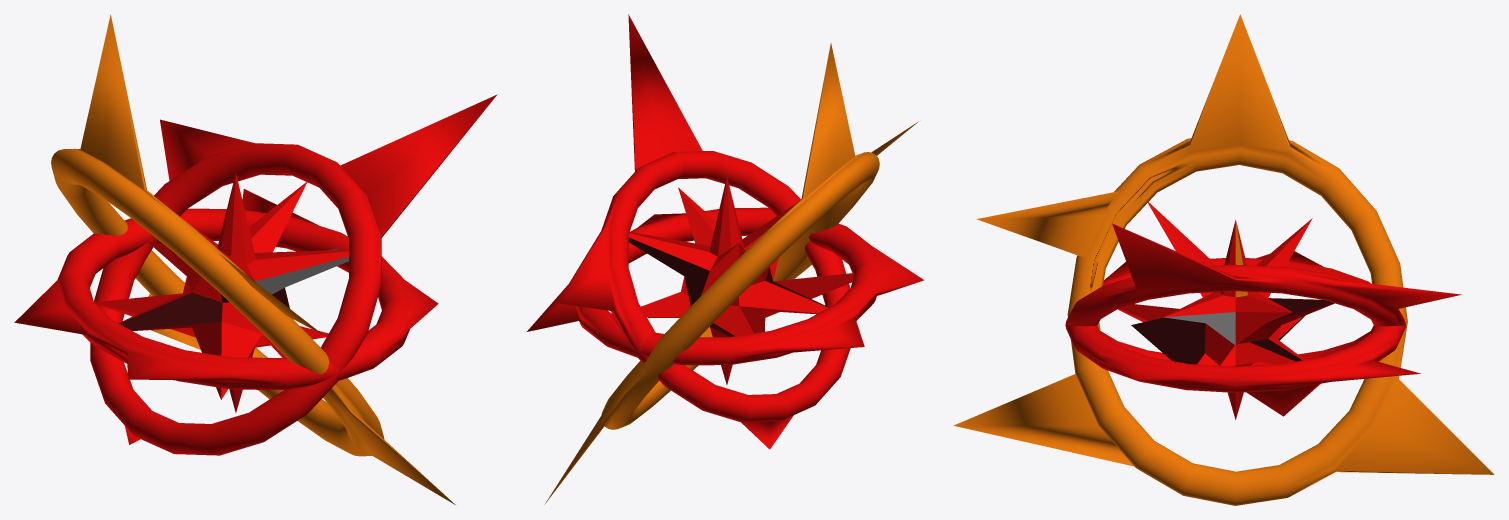
The model's file is Effeck2.fbx.
The picture shows the model from 3 angles, left to right: view 1: azimuth 30°, elevation 25°; view 2: azimuth 150°, elevation 25°; view 3: azimuth 270°, elevation 25°; orthographic projection. The views are drawn at different scales.
Parts seen in each view (by area): view 1: pasted__pTorus1 (×2), pTorus1, pSphere1; view 2: pasted__pTorus1 (×2), pTorus1, pSphere1; view 3: pasted__pTorus1 (×2), pSphere1, pTorus1.
Part boxes in pixels (x1=…): pasted__pTorus1 (×2): x1=51, y1=14, x2=497, y2=504; pTorus1: x1=14, y1=189, x2=438, y2=389; pSphere1: x1=95, y1=173, x2=348, y2=412; pasted__pTorus1 (×2): x1=544, y1=14, x2=918, y2=504; pTorus1: x1=527, y1=207, x2=923, y2=365; pSphere1: x1=628, y1=177, x2=853, y2=384; pasted__pTorus1 (×2): x1=953, y1=14, x2=1494, y2=505; pSphere1: x1=1117, y1=200, x2=1334, y2=419; pTorus1: x1=1065, y1=251, x2=1420, y2=392.
Size of the model in its own units: 0.537 by 0.6521 by 0.7991.
